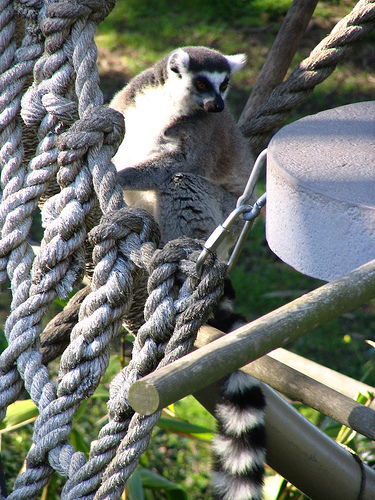cat: (65, 47, 271, 498)
